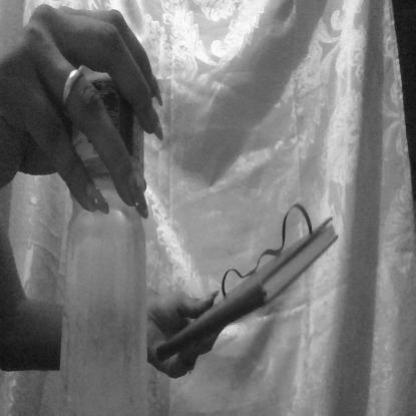Plastic Bottle: (51, 35, 156, 415)
